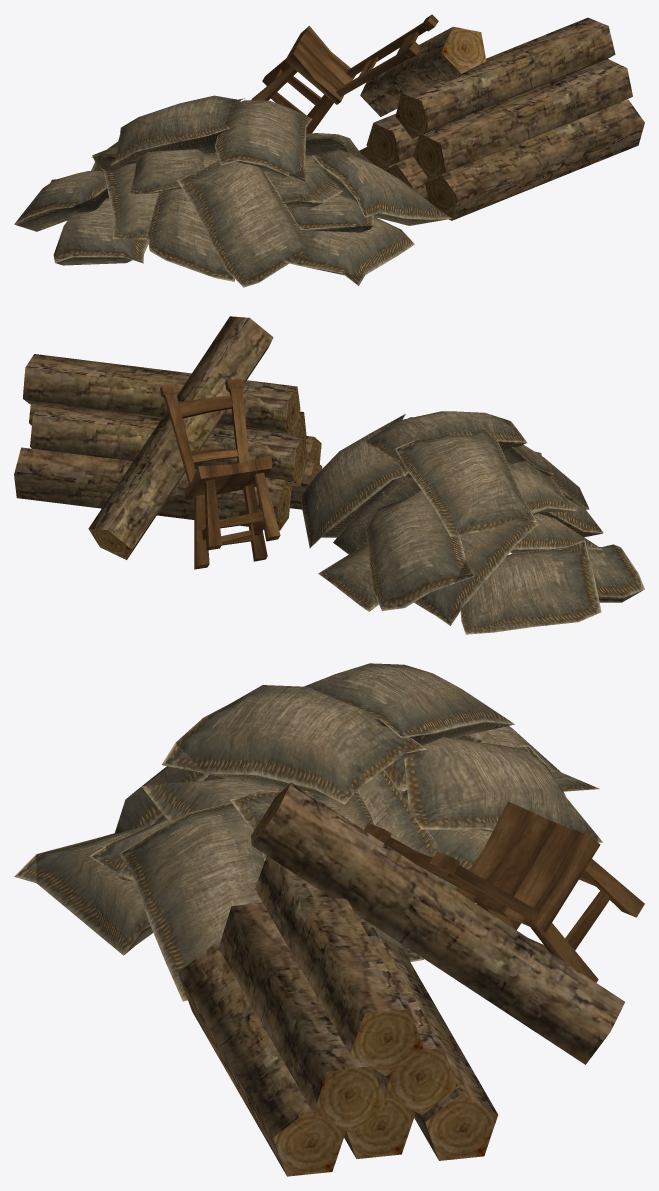
The model's file is prop_group01.fbx.
3 views of the same model, one above another, from view 1: azimuth 30°, elevation 25°; view 2: azimuth 150°, elevation 25°; view 3: azimuth 270°, elevation 25° (orthographic). The views are drawn at different scales.
Visible parts, largest first — view 1: log3, log4, log6, SackMesh, SackMesh11, SackMesh15, log7, SackMesh16, SackMesh8, SackMesh1, SackMesh2, SackMesh14 (+12 smaller); view 2: log7, log6, SackMesh15, SackMesh14, log5, SackMesh12, log1, SackMesh10, SackMesh13, SackMesh11, SackMesh2, polySurface9 (+16 smaller); view 3: log7, SackMesh11, log6, log4, SackMesh16, log3, SackMesh12, polySurface9, SackMesh15, SackMesh8, log1, log5 (+13 smaller).
Boxes of the visible parts, <box> form: log3: <box>425,99,644,220</box>; log4: <box>413,59,632,179</box>; log6: <box>395,17,615,138</box>; SackMesh: <box>177,159,302,287</box>; SackMesh11: <box>215,100,311,182</box>; SackMesh15: <box>111,95,244,165</box>; log7: <box>360,26,486,116</box>; SackMesh16: <box>312,149,451,225</box>; SackMesh8: <box>284,217,414,285</box>; SackMesh1: <box>147,150,234,281</box>; SackMesh2: <box>53,198,148,265</box>; SackMesh14: <box>14,171,108,231</box>; log7: <box>88,316,273,559</box>; log6: <box>23,354,300,434</box>; SackMesh15: <box>395,428,536,536</box>; SackMesh14: <box>460,540,601,634</box>; log5: <box>30,403,307,486</box>; SackMesh12: <box>366,490,475,610</box>; log1: <box>14,447,291,530</box>; SackMesh10: <box>301,414,405,548</box>; SackMesh13: <box>414,516,537,625</box>; SackMesh11: <box>363,411,527,477</box>; SackMesh2: <box>511,544,644,602</box>; polySurface9: <box>184,455,272,500</box>; log7: <box>251,782,624,1064</box>; SackMesh11: <box>162,685,426,804</box>; log6: <box>255,856,423,1075</box>; log4: <box>218,902,386,1133</box>; SackMesh16: <box>119,802,264,1001</box>; log3: <box>178,944,345,1176</box>; SackMesh12: <box>404,737,602,842</box>; polySurface9: <box>455,801,600,933</box>; SackMesh15: <box>304,663,514,745</box>; SackMesh8: <box>14,825,153,955</box>; log1: <box>378,935,498,1160</box>; log5: <box>356,914,457,1115</box>.
Bounding box in the file's own units: 1301 × 357 × 796.
Materials: 1 (1 with a texture image).
